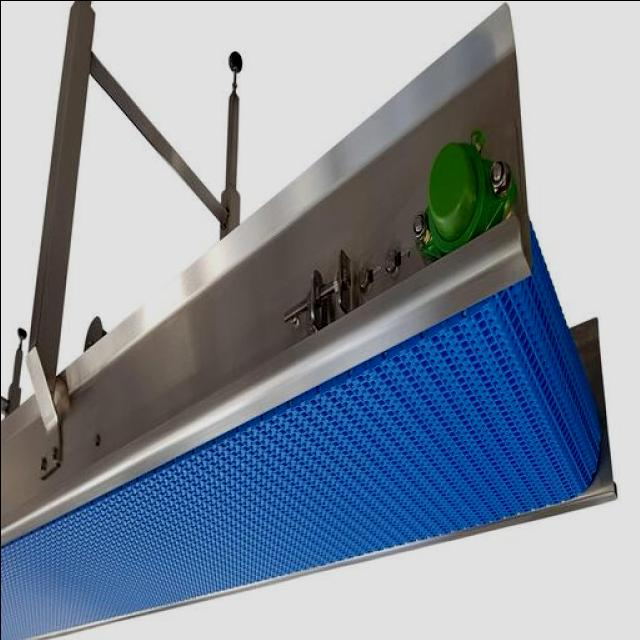conveyor: (0, 224, 601, 640)
